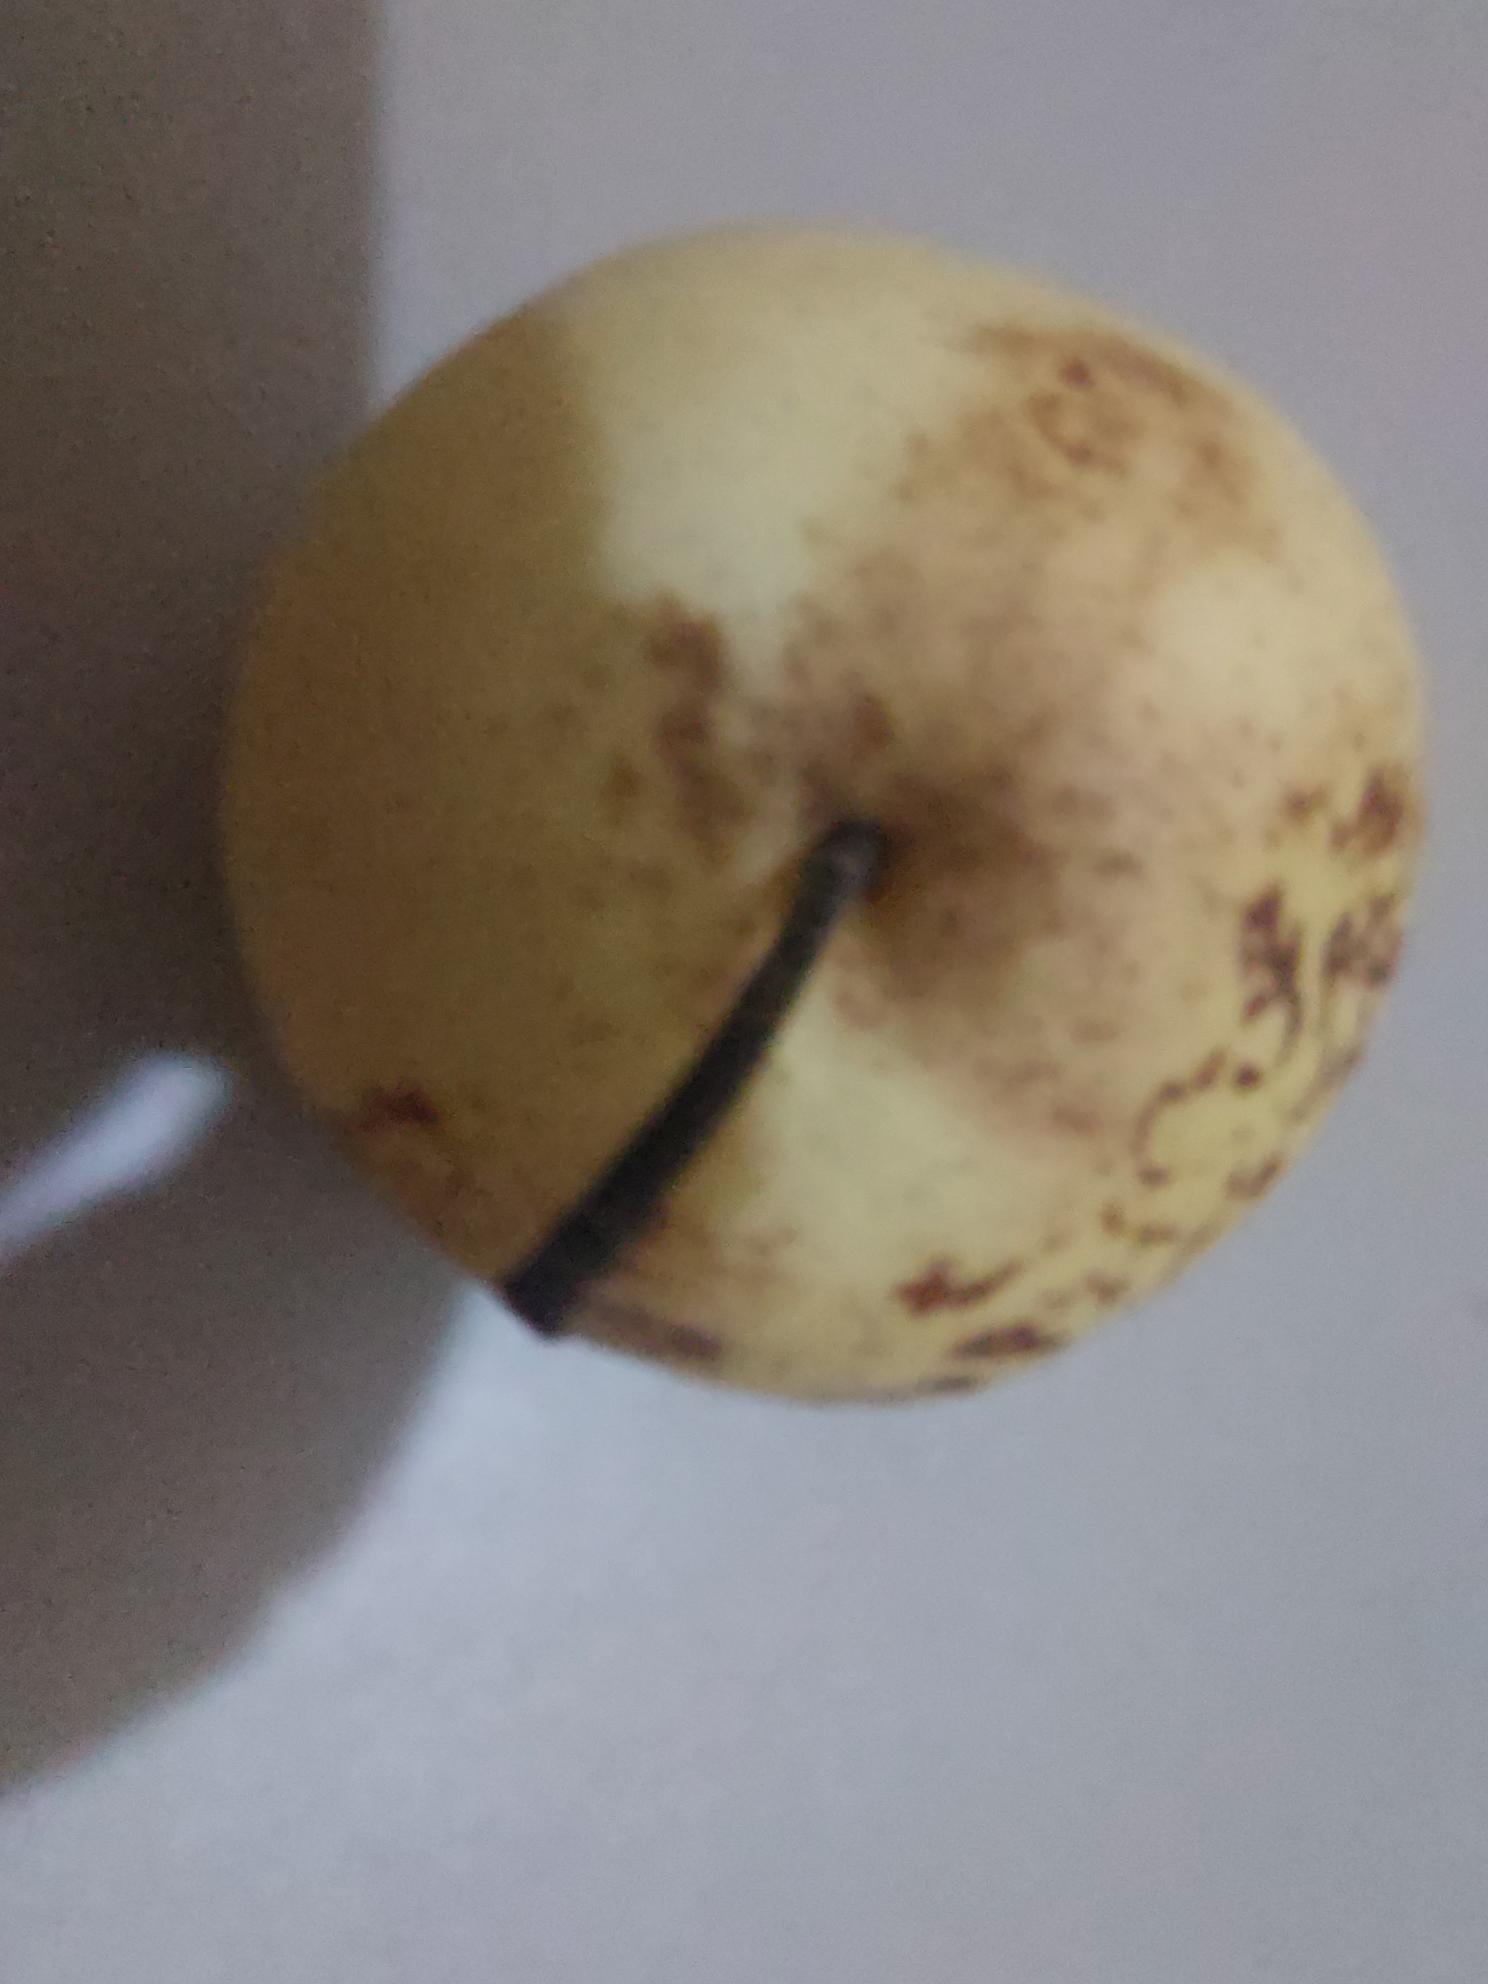Bad Pear: (216, 209, 1419, 1398)
